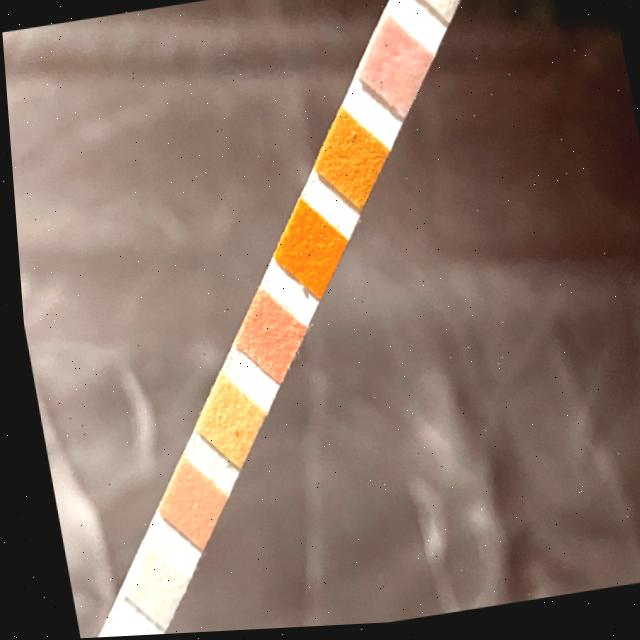Bilirubin: (419, 0, 460, 8)
Blood: (285, 214, 327, 286)
Ketone: (370, 36, 415, 103)
Nitrite: (124, 554, 163, 616)
Protein: (204, 385, 241, 458)
SpGravity: (325, 127, 368, 197)
Urobilinogen: (165, 471, 202, 536)
pH: (242, 306, 286, 371)
